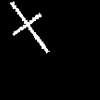single_crochet: (10, 2, 48, 52)
